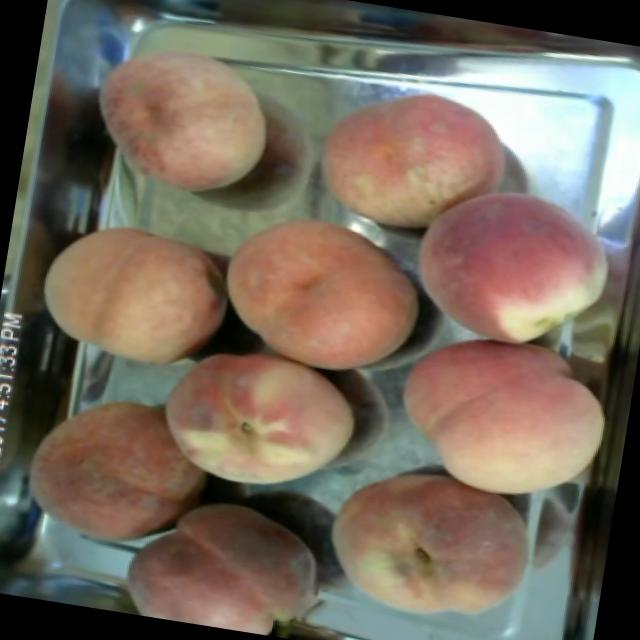Fruit: (373, 307, 624, 520), (301, 440, 552, 640), (391, 164, 635, 368), (202, 192, 443, 388), (297, 62, 526, 258), (138, 332, 379, 518), (6, 372, 230, 572), (73, 26, 290, 214), (22, 203, 241, 386), (111, 475, 344, 640)
